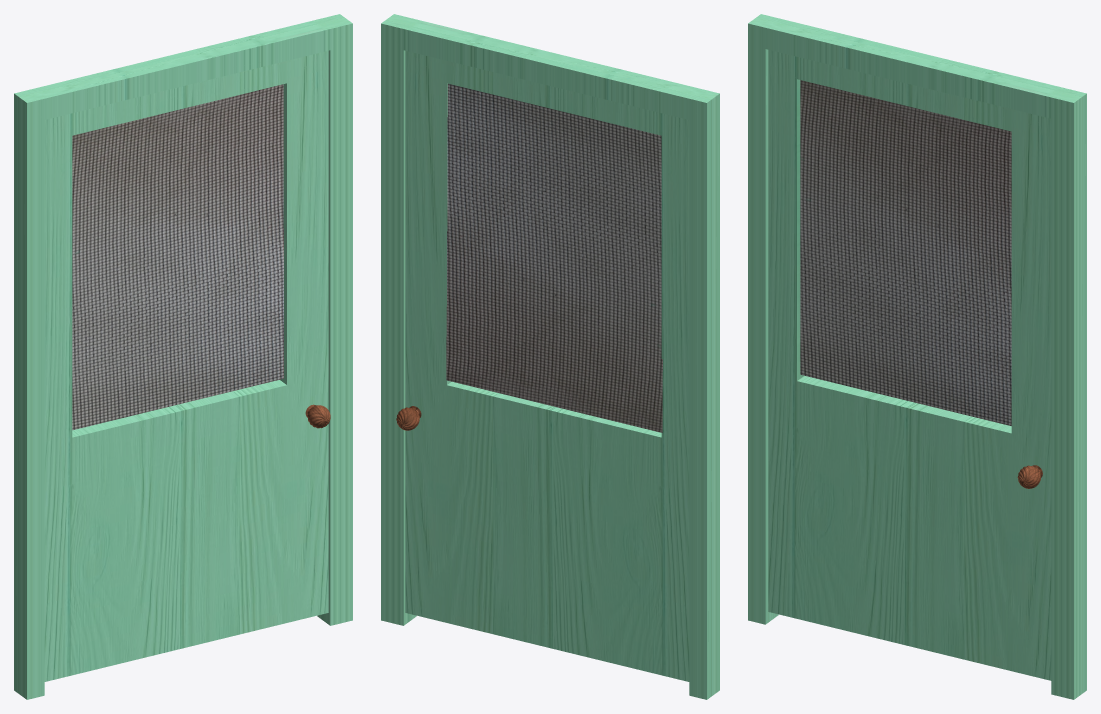
File: PuertaTrasera.obj
3 views of the same model, side by side, from view 1: azimuth 30°, elevation 25°; view 2: azimuth 150°, elevation 25°; view 3: azimuth 330°, elevation 25° (orthographic).
Visible parts, largest first — view 1: group77_pasted__pasted__pCube6; view 2: group77_pasted__pasted__pCube6; view 3: group77_pasted__pasted__pCube6.
Boxes of the visible parts, x1,y1,x2,y2 form: group77_pasted__pasted__pCube6: [14, 14, 352, 699]; group77_pasted__pasted__pCube6: [381, 14, 719, 699]; group77_pasted__pasted__pCube6: [748, 14, 1086, 699].
Bounding box in the file's own units: 10.46 × 18.31 × 2.04.
Materials: 5 (5 with a texture image).
